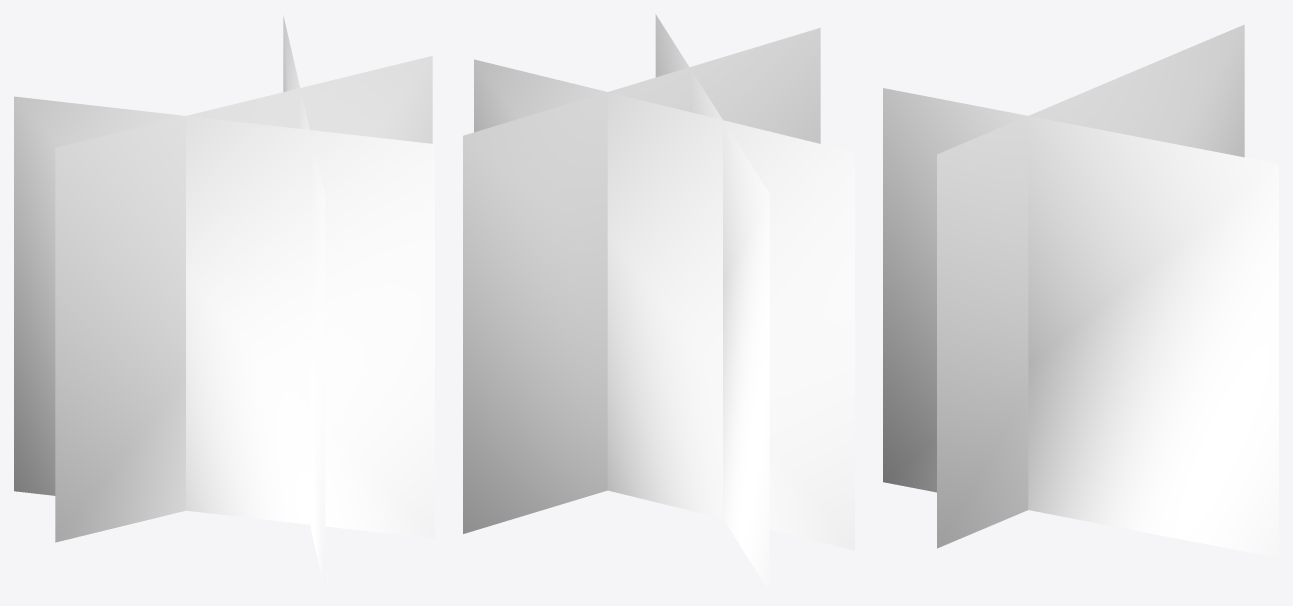
The model's file is SM_Env_Grass_Tall_Clump_01.glb.
3 renders of one model, left to right at view 1: azimuth 30°, elevation 25°; view 2: azimuth 150°, elevation 25°; view 3: azimuth 270°, elevation 25°, orthographic.
Visible parts, largest first — view 1: SM_Env_Grass_Tall_Clump_01_LOD0; view 2: SM_Env_Grass_Tall_Clump_01_LOD0; view 3: SM_Env_Grass_Tall_Clump_01_LOD0.
Boxes of the visible parts, bbox=[...] form: SM_Env_Grass_Tall_Clump_01_LOD0: bbox=[14, 15, 434, 590]; SM_Env_Grass_Tall_Clump_01_LOD0: bbox=[463, 14, 854, 591]; SM_Env_Grass_Tall_Clump_01_LOD0: bbox=[883, 24, 1278, 557].
Size of what is drawn, in the model's own units: 1 by 1 by 0.9104.
Materials: 1 (1 with a texture image).
